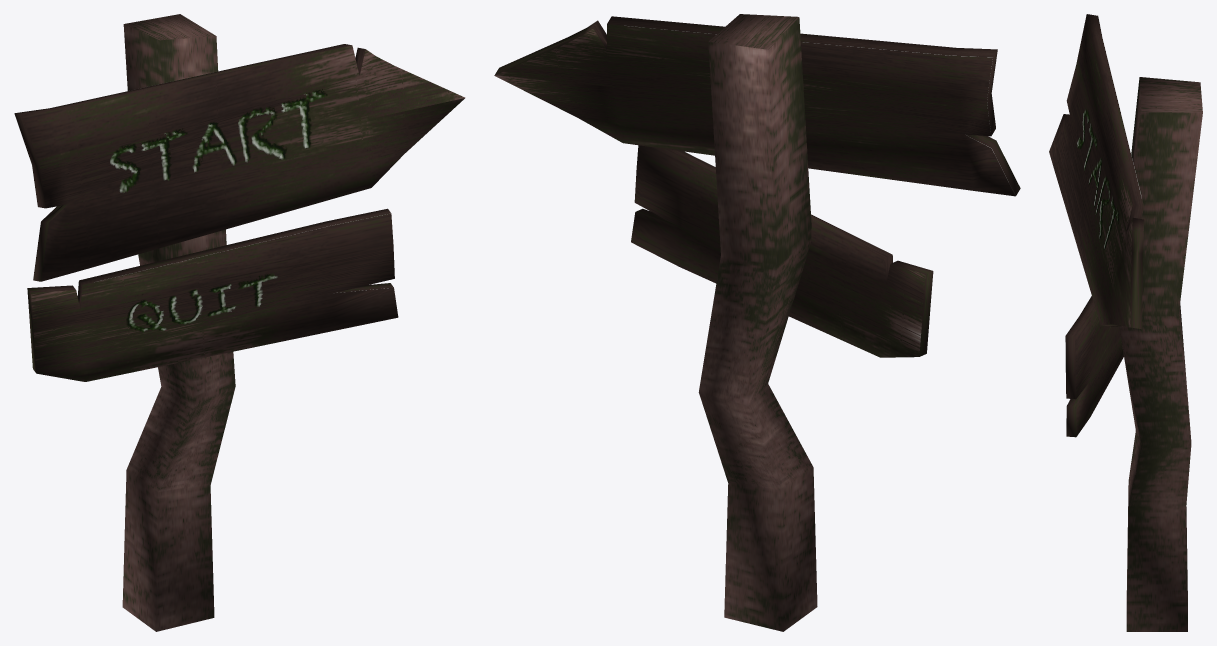
File: woodensign.fbx
The picture shows the model from 3 angles, left to right: view 1: azimuth 30°, elevation 25°; view 2: azimuth 150°, elevation 25°; view 3: azimuth 270°, elevation 25°; orthographic projection. The views are drawn at different scales.
Visible parts, largest first — view 1: Wooden_Sign, Wooden_Sign1; view 2: Wooden_Sign, Wooden_Sign1; view 3: Wooden_Sign, Wooden_Sign1.
Boxes of the visible parts, box(x1,y1,x2,y2) form: Wooden_Sign: box(14, 14, 465, 631); Wooden_Sign1: box(27, 208, 398, 381); Wooden_Sign: box(494, 14, 1020, 631); Wooden_Sign1: box(631, 145, 933, 357); Wooden_Sign: box(1049, 14, 1202, 631); Wooden_Sign1: box(1065, 296, 1123, 437).
Size of the model in its own units: 228 by 270 by 70.61.
